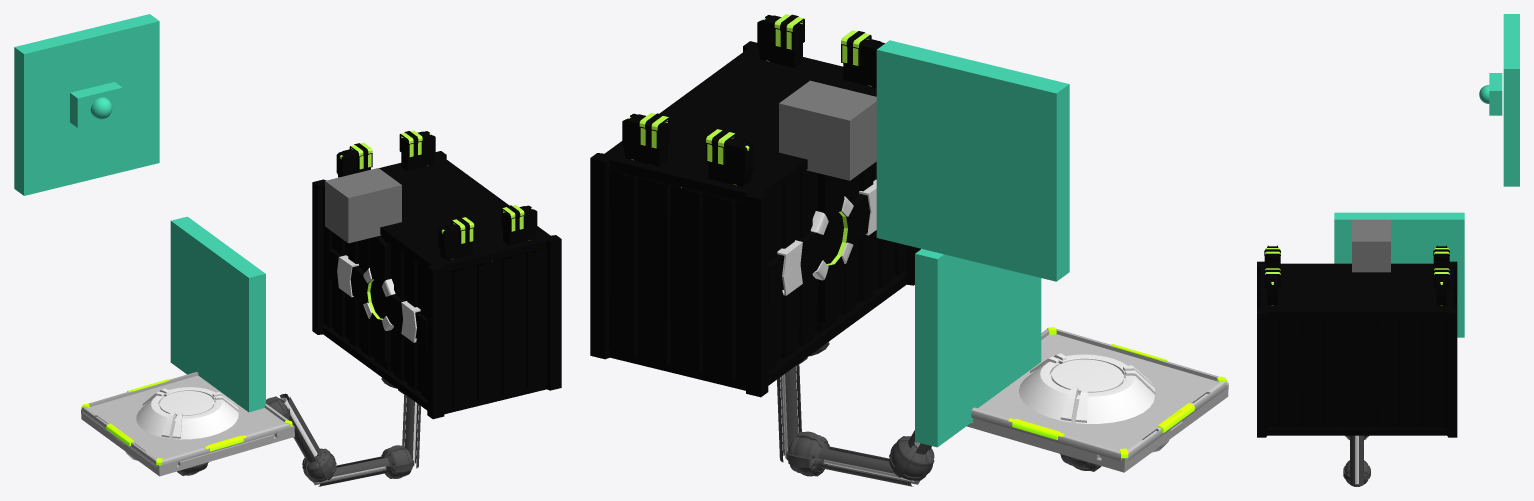
File: Container_Black.fbx
The picture shows the model from 3 angles, left to right: view 1: azimuth 30°, elevation 25°; view 2: azimuth 150°, elevation 25°; view 3: azimuth 270°, elevation 25°; orthographic projection. The views are drawn at different scales.
Parts seen in each view (by area): view 1: Cube_3, Container_Black, Cube_2, Container_Back_MAT01_0.002, Container_Back_MAT01_0.001, mod_gabenette.002, Cube, mod_Wallrun, Arm_Container_Support.001, Pad, Cube_1, mod_wallFram (+9 smaller); view 2: Cube_3, Container_Black, Container_Back_MAT01_0.002, Cube_2, Container_Back_MAT01_0.001, mod_gabenette.002, Cube, mod_Wallrun, Pad, Arm_Container_Support.001, mod_wallFram, Cube_1 (+8 smaller); view 3: Container_Back_MAT01_0.001, Container_Black, Cube_2, Cube_3, Cube, mod_gabenette.002, Cube (1)_2, Arm_Joint.
Boxes of the visible parts, x1,y1,x2,y2 form: Cube_3: [14, 14, 159, 195]; Container_Black: [312, 151, 561, 419]; Cube_2: [170, 216, 265, 412]; Container_Back_MAT01_0.002: [444, 248, 547, 407]; Container_Back_MAT01_0.001: [323, 193, 546, 398]; mod_gabenette.002: [336, 130, 537, 260]; Cube: [325, 168, 401, 243]; mod_Wallrun: [89, 375, 284, 458]; Arm_Container_Support.001: [328, 236, 427, 363]; Pad: [136, 387, 238, 439]; Cube_1: [81, 409, 294, 476]; mod_wallFram: [82, 372, 290, 466]; Cube_3: [876, 40, 1069, 281]; Container_Black: [590, 41, 920, 397]; Container_Back_MAT01_0.002: [608, 170, 745, 382]; Cube_2: [915, 249, 1041, 447]; Container_Back_MAT01_0.001: [610, 161, 906, 370]; mod_gabenette.002: [622, 14, 884, 186]; Cube: [779, 80, 876, 180]; mod_Wallrun: [978, 334, 1217, 449]; Pad: [1019, 354, 1154, 423]; Arm_Container_Support.001: [768, 173, 869, 322]; mod_wallFram: [971, 328, 1226, 461]; Cube_1: [967, 382, 1228, 472]; Container_Back_MAT01_0.001: [1267, 318, 1447, 428]; Container_Black: [1257, 261, 1457, 437]; Cube_2: [1334, 212, 1464, 337]; Cube_3: [1503, 14, 1519, 186]; Cube: [1352, 220, 1390, 272]; mod_gabenette.002: [1264, 245, 1449, 305]; Cube (1)_2: [1489, 73, 1502, 115]; Arm_Joint: [1350, 435, 1363, 486].
Bounding box in the file's own units: 1148 × 1207 × 808.
